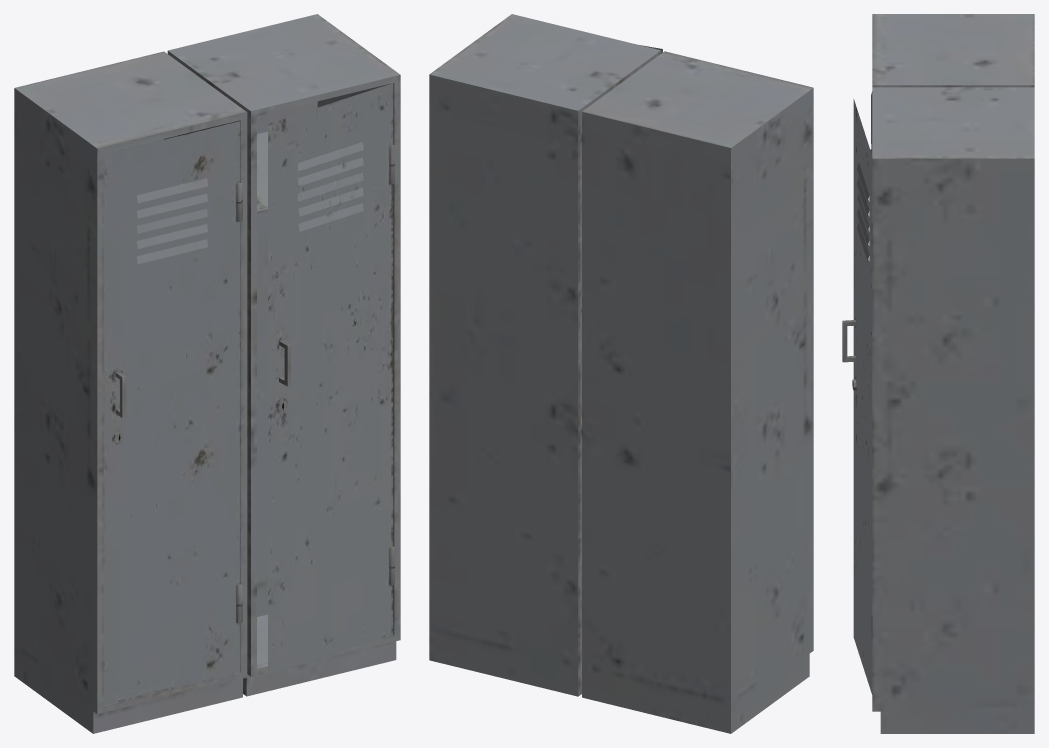
The model's file is armario.glb.
3 renders of one model, left to right at view 1: azimuth 30°, elevation 25°; view 2: azimuth 150°, elevation 25°; view 3: azimuth 270°, elevation 25°, orthographic. The views are drawn at different scales.
Visible parts, largest first — view 1: Cube.003, Cube.001, Cylinder.000; view 2: Cube.001; view 3: Cube.001, Cube.003, Cylinder.000.
Part boxes in pixels (<box>): Cube.003: <box>103,83,393,705</box>; Cube.001: <box>14,14,400,733</box>; Cylinder.000: <box>113,145,394,623</box>; Cube.001: <box>429,14,813,733</box>; Cube.001: <box>872,14,1034,733</box>; Cube.003: <box>853,91,872,694</box>; Cylinder.000: <box>842,148,872,652</box>.
Size of the model in its own units: 1.08 by 2 by 0.6068.
Materials: 3 (3 with a texture image).
